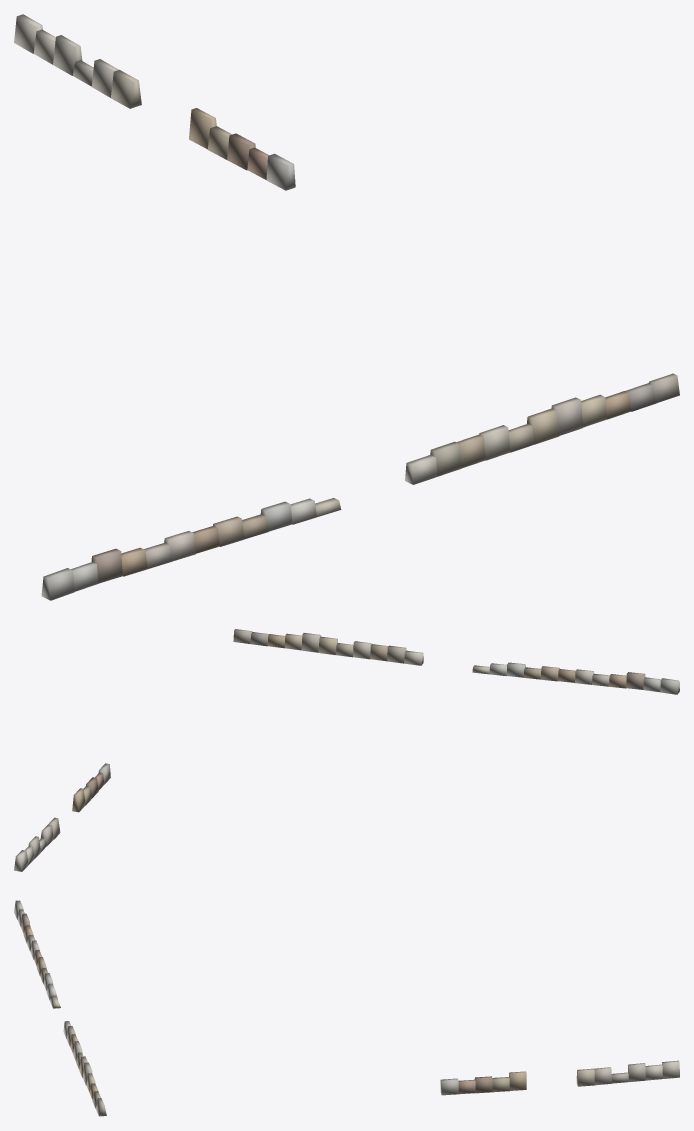
Rendered from farm_13_18_collision.glb.
3 views of the same model, one above another, from view 1: azimuth 30°, elevation 25°; view 2: azimuth 150°, elevation 25°; view 3: azimuth 270°, elevation 25° (orthographic). The views are drawn at different scales.
Visible parts, largest first — view 1: geometry_0; view 2: geometry_0; view 3: geometry_0.
Part boxes in pixels (bbox=[...]): geometry_0: bbox=[14, 14, 679, 600]; geometry_0: bbox=[14, 629, 679, 871]; geometry_0: bbox=[14, 900, 679, 1116].
Bounding box in the file's own units: 39.74 × 2.5 × 58.26.
